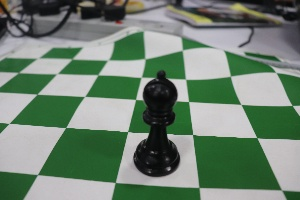black_bishop: (127, 55, 186, 187)
